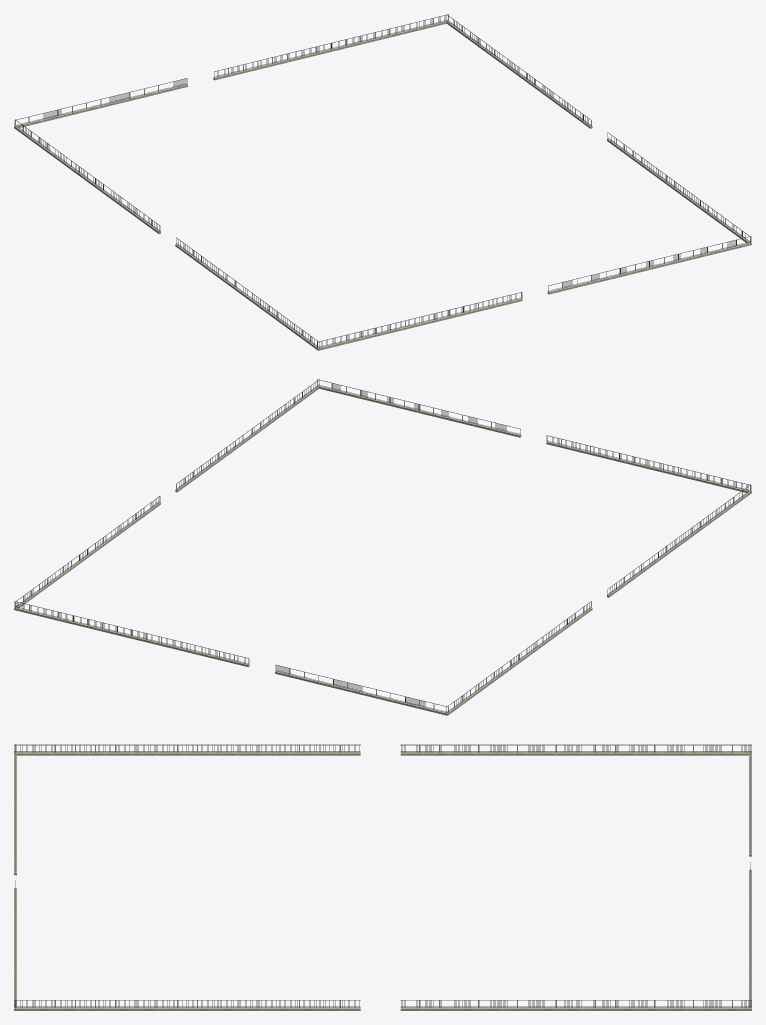
Rendered from court_house_square_1871__square_1853_1871.glb.
3 renders of one model, top to bottom at view 1: azimuth 30°, elevation 25°; view 2: azimuth 150°, elevation 25°; view 3: azimuth 270°, elevation 25°, orthographic. The views are drawn at different scales.
Visible parts, largest first — view 1: court_house_square_1871__square_1853_1871; view 2: court_house_square_1871__square_1853_1871; view 3: court_house_square_1871__square_1853_1871.
Boxes of the visible parts, <box> form: court_house_square_1871__square_1853_1871: <box>14,14,751,350</box>; court_house_square_1871__square_1853_1871: <box>14,379,751,715</box>; court_house_square_1871__square_1853_1871: <box>14,744,751,1010</box>.
Size of the model in its own units: 91.64 by 1.7 by 111.
2 materials, 1 textured.
